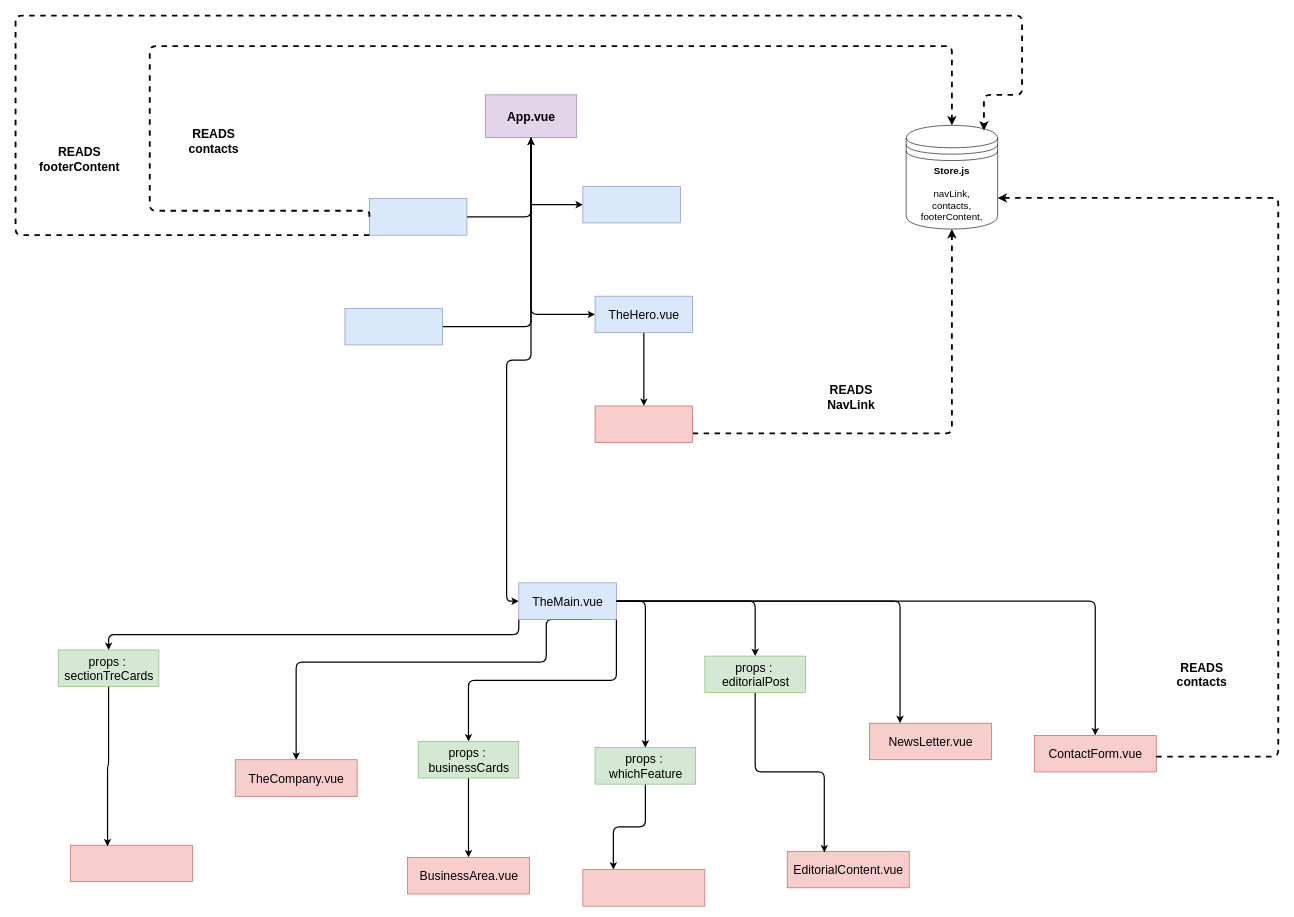
Image size: 1294x917. Some labels were removed from this diagram. The shapes that lost their labels are listed below. From the top down, each one's centre as x and y in pixels, then its label:
At (418,216): "TheFooter.vue".
At (631,204): "TheHeader.vue".
At (393,326): "BottomBar.vue".
At (643,424): "TheNav.vue".
At (131,863): "FirstCardSection.vue".
At (643,887): "MonthlyPlan.vue".
